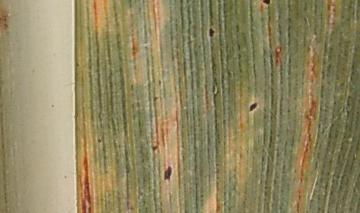tarspot: (163, 166, 173, 182), (248, 103, 258, 112), (209, 27, 215, 38), (263, 1, 272, 7)
